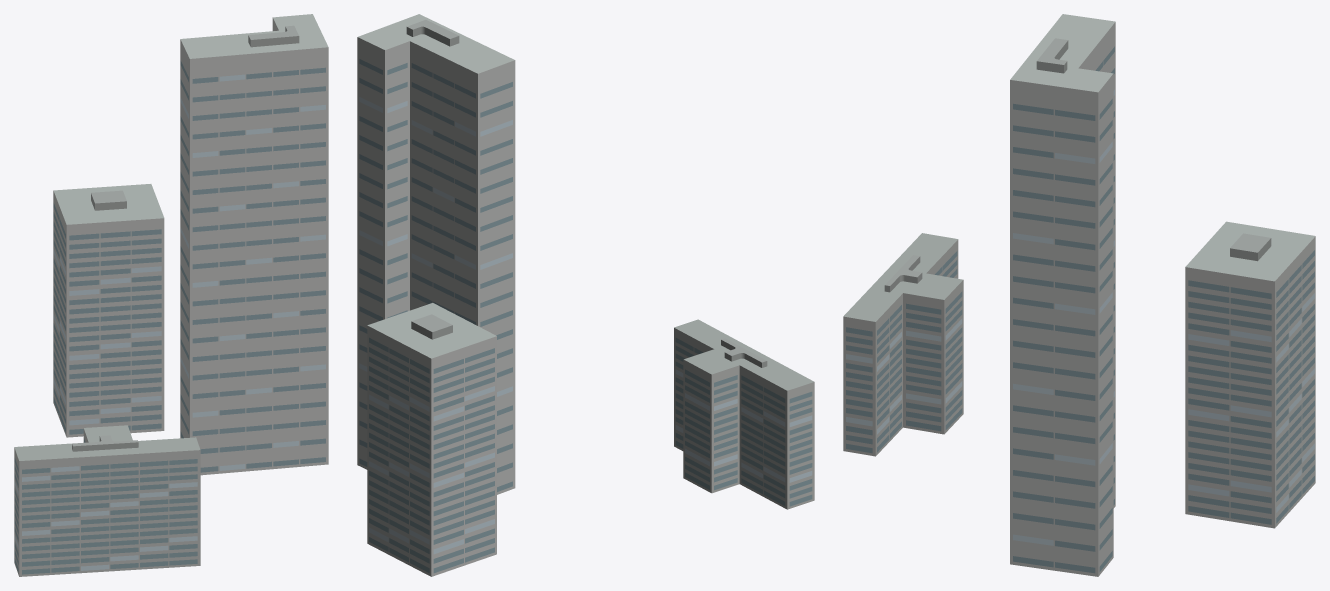
File: apt-a10022572.glb
3 renders of one model, left to right at view 1: azimuth 30°, elevation 25°; view 2: azimuth 150°, elevation 25°; view 3: azimuth 270°, elevation 25°, orthographic. The views are drawn at different scales.
Visible parts, largest first — view 1: apt-a10022572; view 2: apt-a10022572; view 3: apt-a10022572.
Boxes of the visible parts, x1,y1,x2,y2 form: apt-a10022572: [14, 14, 328, 576]; apt-a10022572: [357, 14, 814, 576]; apt-a10022572: [843, 14, 1315, 576].
Size of the model in its own units: 128 by 140 by 122.
